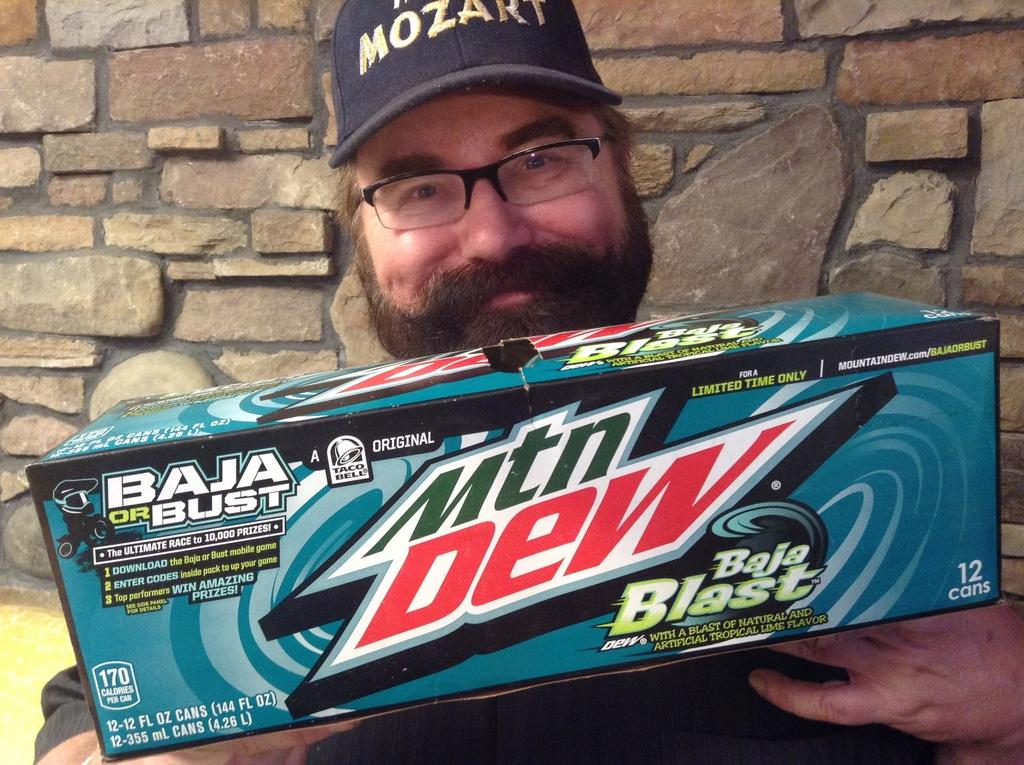Hat: (325, 0, 627, 169)
